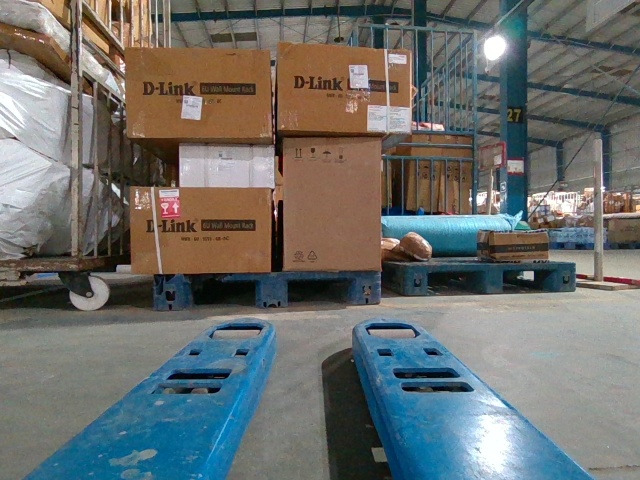block: (154, 272, 196, 309), (253, 273, 291, 308), (349, 271, 382, 305), (396, 264, 427, 295), (551, 261, 576, 296), (483, 264, 506, 294)
front: (155, 271, 382, 309), (401, 262, 576, 296)
hole pallet: (193, 281, 253, 310), (288, 278, 352, 304), (428, 271, 484, 297), (502, 268, 552, 291)
